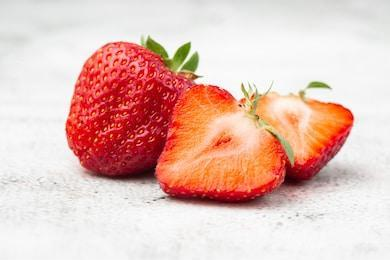Fresa: (62, 36, 203, 182), (151, 79, 290, 205)
